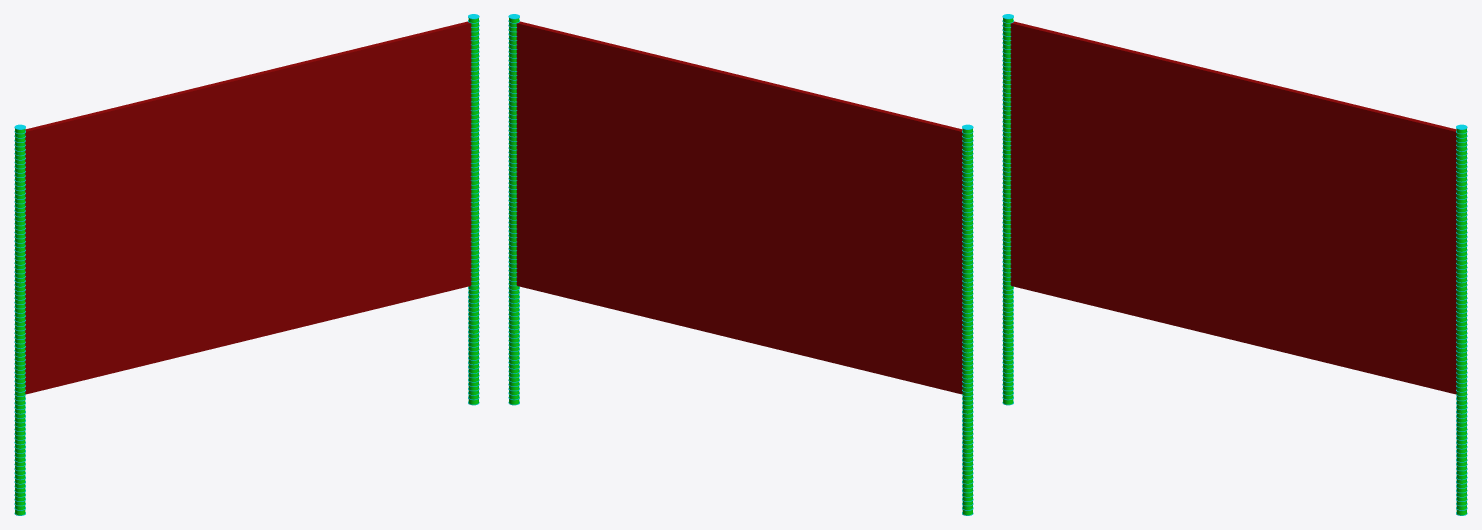
The model's file is SM_Panel.FBX.
3 views of the same model, side by side, from view 1: azimuth 30°, elevation 25°; view 2: azimuth 150°, elevation 25°; view 3: azimuth 330°, elevation 25° (orthographic).
Parts seen in each view (by area): view 1: Box002; view 2: Box002; view 3: Box002.
Part boxes in pixels (bbox=[...]): Box002: bbox=[14, 14, 479, 515]; Box002: bbox=[508, 14, 973, 515]; Box002: bbox=[1002, 14, 1467, 515].
Size of the model in its own units: 200 by 159 by 4.37.
